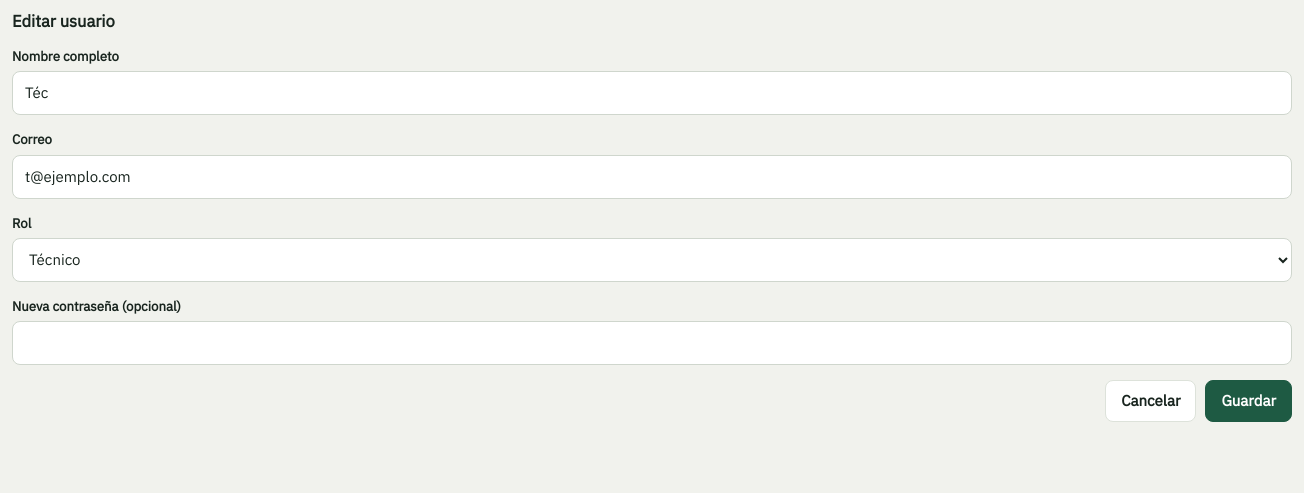
Test: FormularioUsuario › muestra el motivo si el servidor rechaza una contraseña trivial
In the password field labelled "Nueva contraseña (opcional)": point(652, 343) [12,321,1292,365], type "12345678"
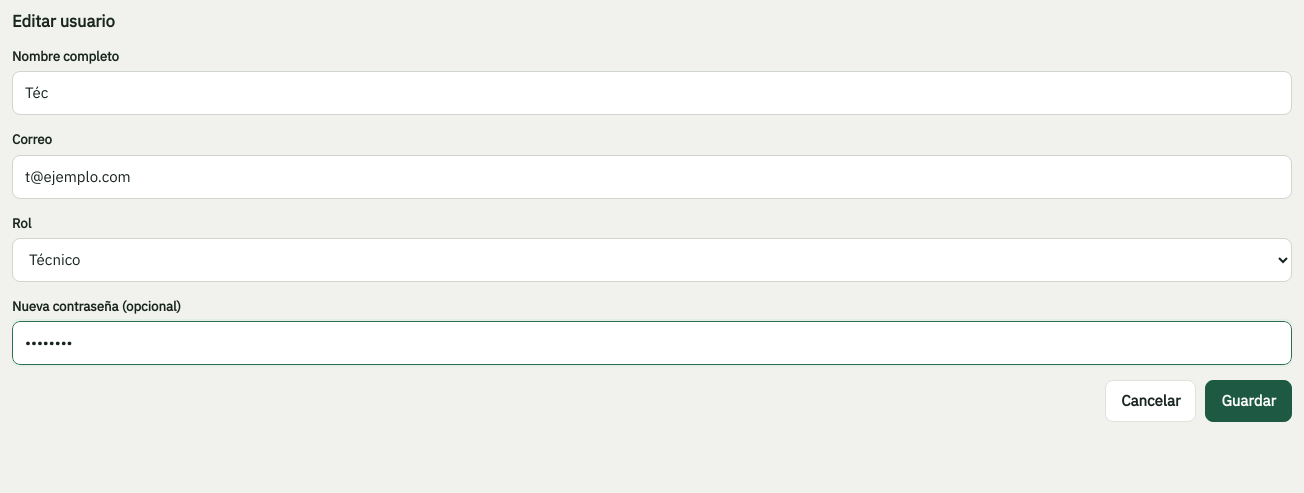
Click the button "Guardar": point(1249, 401) [1205,380,1292,422]
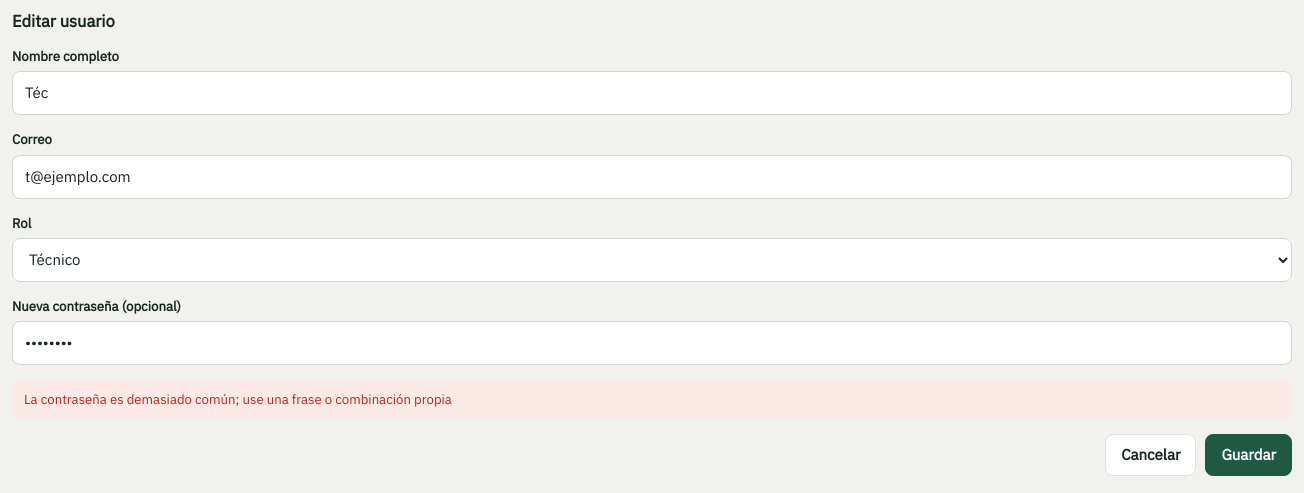
Check: the message shows "demasiado común", box [24,390,452,408]
